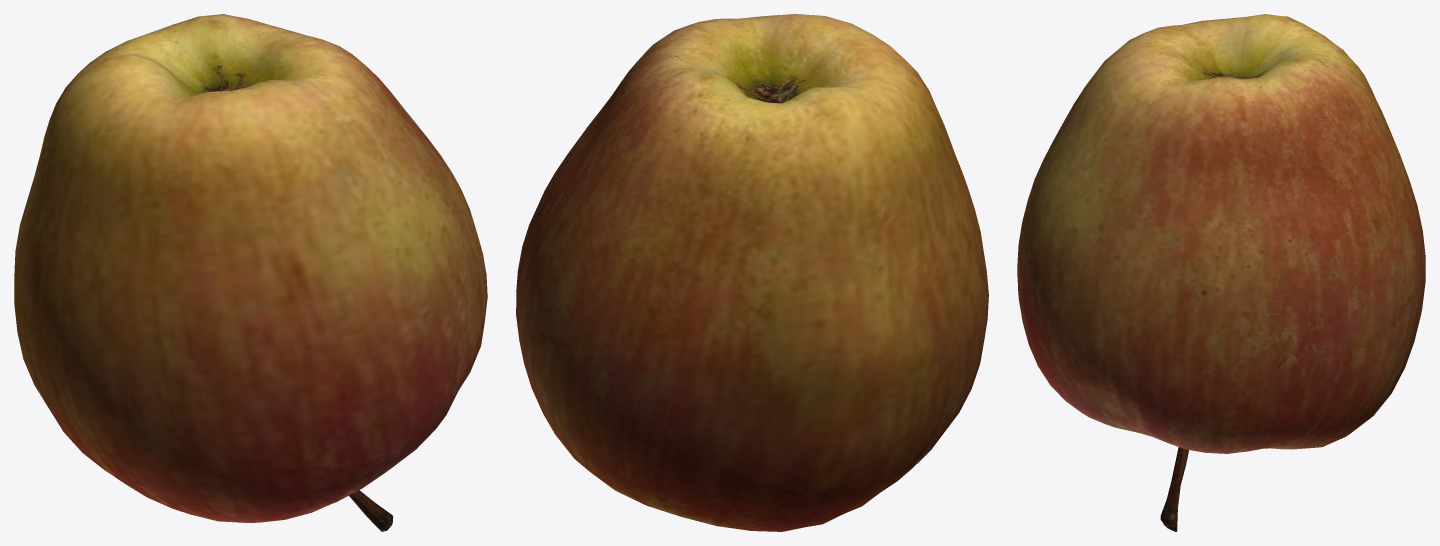
The model's file is apple.glb.
3 views of the same model, side by side, from view 1: azimuth 30°, elevation 25°; view 2: azimuth 150°, elevation 25°; view 3: azimuth 270°, elevation 25° (orthographic). The views are drawn at different scales.
Visible parts, largest first — view 1: Apple; view 2: Apple; view 3: Apple.
Boxes of the visible parts, x1,y1,x2,y2 form: Apple: (14,14,487,531); Apple: (516,14,988,531); Apple: (1017,14,1425,531).
Size of the model in its own units: 0.0692 by 0.0792 by 0.0685.
Materials: 1 (1 with a texture image).
